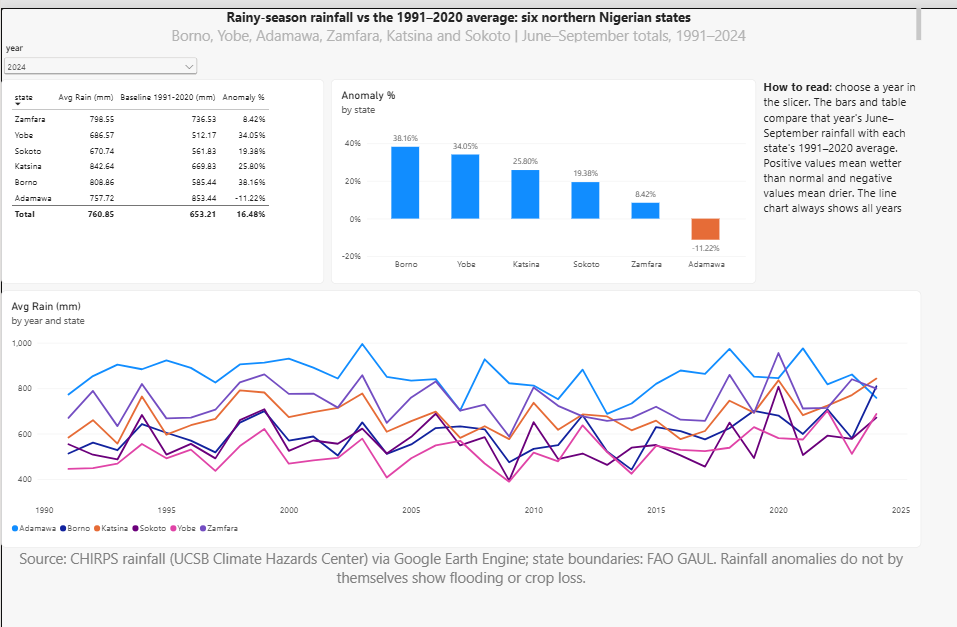

What the dashboard file says about the page in this screenshot:
{"tool":"powerbi","page":{"name":"Page 1","canvas":[1920,1080],"ordinal":0},"visuals":[{"type":"tableEx","fields":{"Values":["rainfall.state","rainfall.Avg Rain (mm)","rainfall.Baseline 1991-2020 (mm)","rainfall.Anomaly %"]},"box":[0,118.3,531.7,336.7],"z":0},{"type":"slicer","fields":{"Values":["rainfall.year"]},"box":[0,56.7,328.3,58.3],"z":1000},{"type":"clusteredColumnChart","fields":{"Category":["rainfall.state"],"Y":["rainfall.Anomaly %"]},"box":[543.3,118.3,700,336.7],"z":2000},{"type":"lineChart","fields":{"Category":["rainfall.year"],"Series":["rainfall.state"],"Y":["rainfall.Avg Rain (mm)"]},"box":[0,465,1515,423.3],"z":3000},{"type":"textbox","box":[0,889.2,1514.9,76.2],"z":4000},{"type":"textbox","box":[0,0,1515,56.7],"z":5000},{"type":"textbox","box":[1255,118.3,260,333.3],"z":5001}]}

Visuals, with their boxes in screenshot pixels (x1, y1, x2, y2):
tableEx - rainfall.state x rainfall.Avg Rain (mm): detection(0, 38, 271, 209)
slicer - rainfall.year: detection(0, 6, 167, 36)
clusteredColumnChart - rainfall.state x rainfall.Anomaly %: detection(277, 38, 634, 209)
lineChart - rainfall.year x rainfall.state: detection(0, 215, 772, 430)
textbox: detection(0, 431, 772, 470)
textbox: detection(0, 0, 772, 6)
textbox: detection(640, 38, 772, 208)
